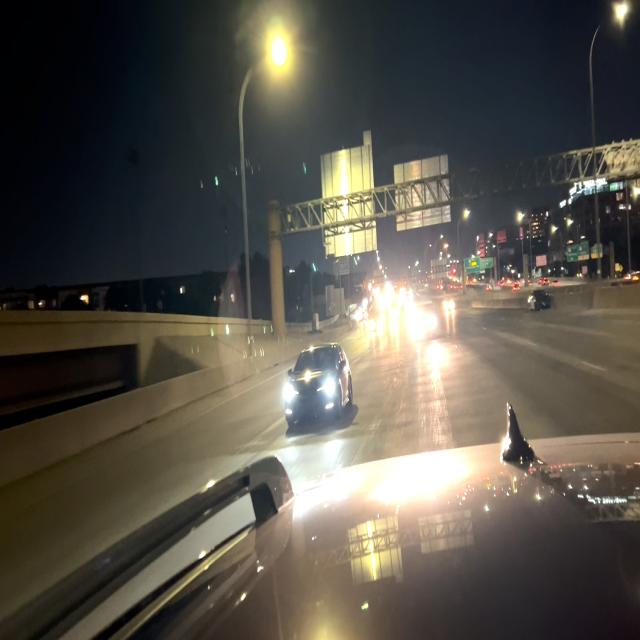back-of-sign: (320, 131, 379, 259), (392, 150, 452, 231), (325, 283, 345, 320), (430, 257, 448, 281)
